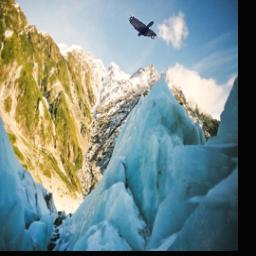Crow: (128, 15, 156, 39)
